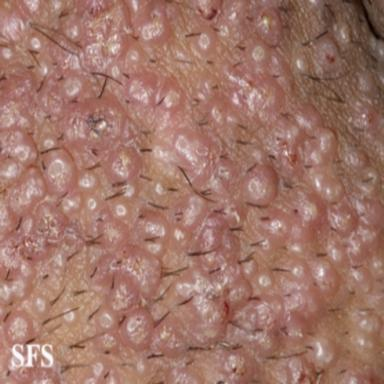Molluscum-Contagiosum: (0, 0, 384, 382)
